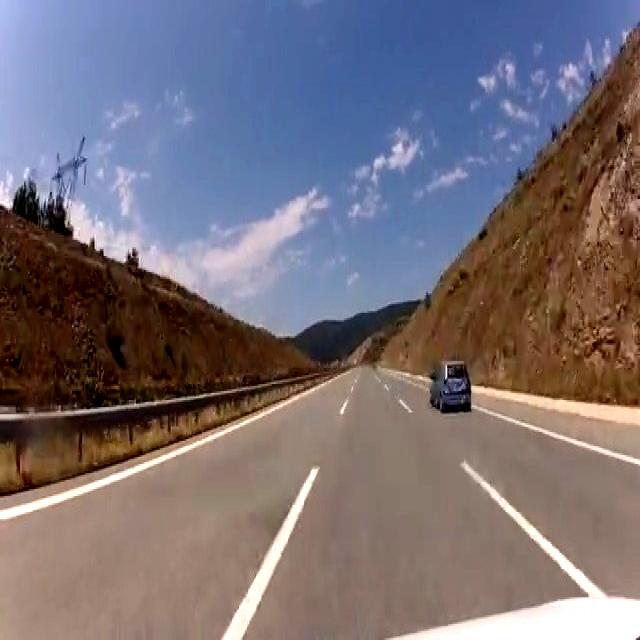lane: (0, 397, 300, 520), (460, 460, 606, 597), (222, 468, 318, 638), (472, 406, 640, 466)
road: (0, 368, 639, 636)
